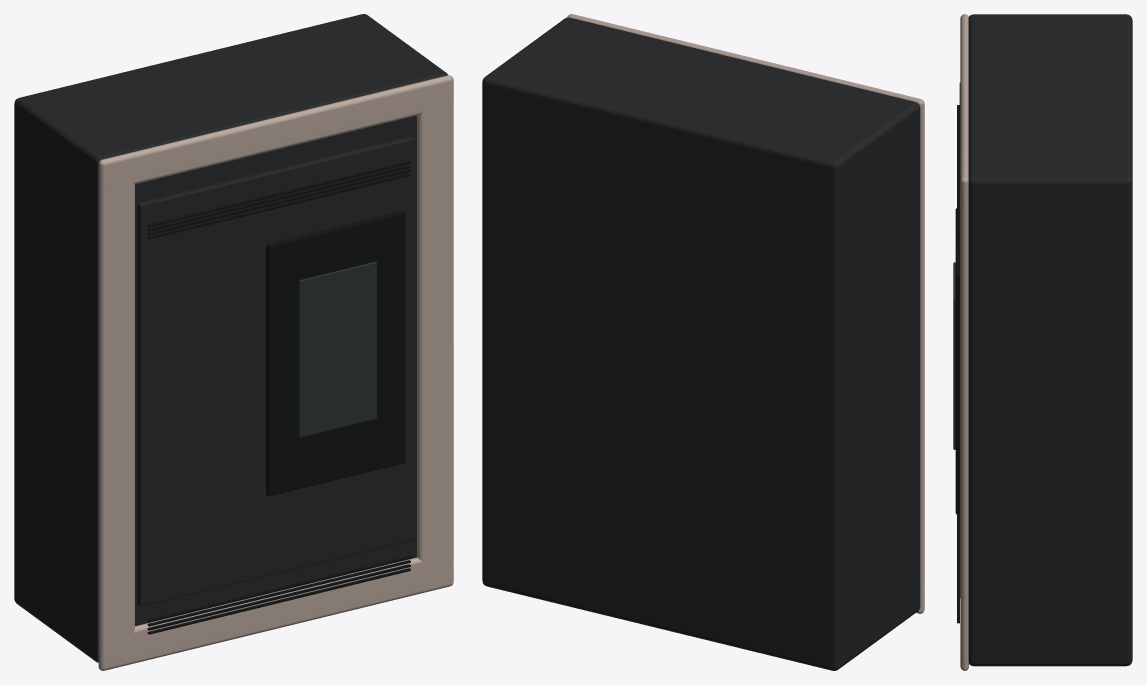
File: nordica-souvenir-plus-lux-50-tortora.glb
The picture shows the model from 3 angles, left to right: view 1: azimuth 30°, elevation 25°; view 2: azimuth 150°, elevation 25°; view 3: azimuth 270°, elevation 25°; orthographic projection. The views are drawn at different scales.
Parts seen in each view (by area): view 1: Corpo, Frontale, Cornice sportello, Montante.001, Montante, Vetro sportello, Cornice superiore, Cornice inferiore, Griglia inferiore.001, Griglia inferiore, Griglia inferiore.002, Griglia inferiore.003 (+4 smaller); view 2: Corpo, Montante, Cornice superiore; view 3: Corpo, Montante.001, Cornice superiore, Cornice sportello, Frontale, Vetro sportello, Griglia superiore, Griglia inferiore.003.
Boxes of the visible parts, left/top/right/bottom form: Corpo: left=14, top=14, right=447, bottom=662; Frontale: left=137, top=136, right=415, bottom=606; Cornice sportello: left=266, top=210, right=405, bottom=495; Montante.001: left=417, top=75, right=453, bottom=584; Montante: left=98, top=153, right=134, bottom=663; Vetro sportello: left=298, top=261, right=376, bottom=437; Cornice superiore: left=98, top=76, right=453, bottom=189; Cornice inferiore: left=98, top=555, right=453, bottom=670; Griglia inferiore.001: left=147, top=564, right=410, bottom=630; Griglia inferiore: left=147, top=568, right=410, bottom=634; Griglia inferiore.002: left=147, top=560, right=410, bottom=626; Griglia inferiore.003: left=147, top=556, right=410, bottom=622; Corpo: left=482, top=17, right=920, bottom=670; Montante: left=891, top=92, right=924, bottom=583; Cornice superiore: left=567, top=16, right=924, bottom=128; Corpo: left=968, top=14, right=1132, bottom=666; Montante.001: left=960, top=164, right=968, bottom=663; Cornice superiore: left=960, top=27, right=968, bottom=205; Cornice sportello: left=955, top=208, right=959, bottom=514; Frontale: left=959, top=82, right=960, bottom=597; Vetro sportello: left=953, top=262, right=955, bottom=449; Griglia superiore: left=957, top=105, right=959, bottom=229; Griglia inferiore.003: left=957, top=514, right=959, bottom=611.
Bounding box in the file's own units: 0.821 × 1.13 × 0.3725.
